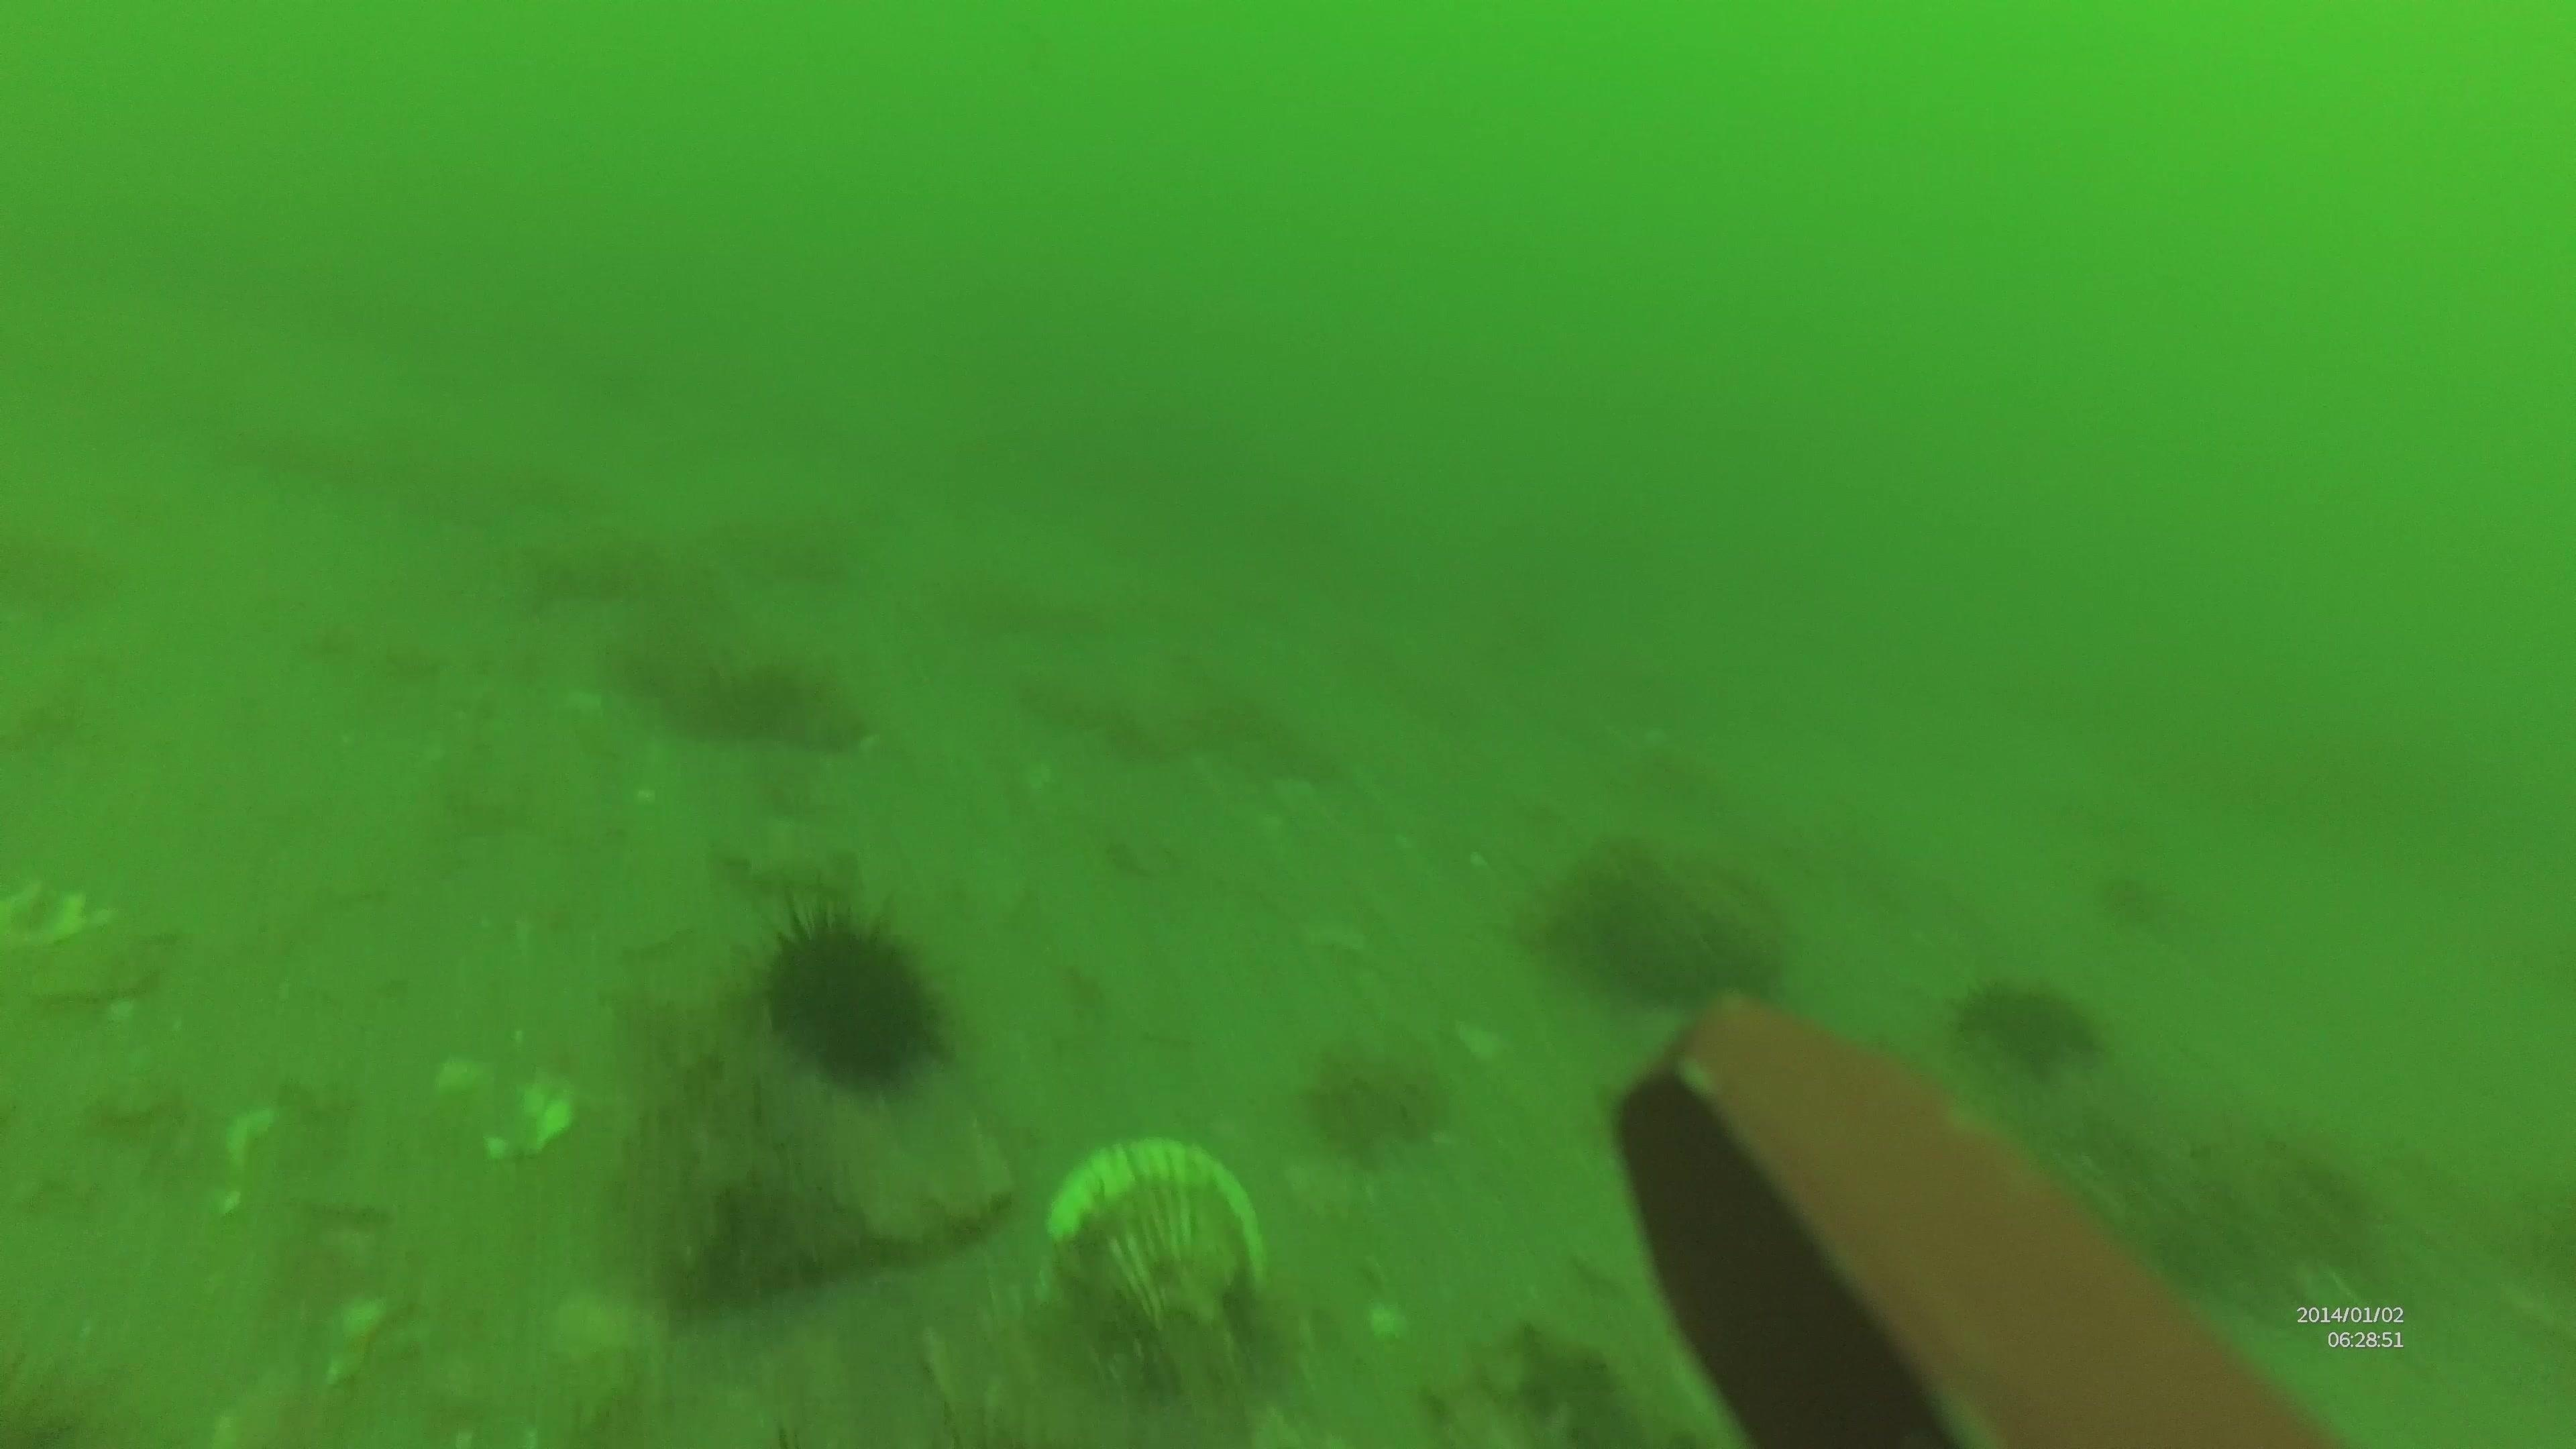echinus: (747, 897, 952, 1093), (1948, 971, 2104, 1083)
holothurian: (1430, 1315, 1709, 1445)
scallop: (1042, 1138, 1269, 1339)
